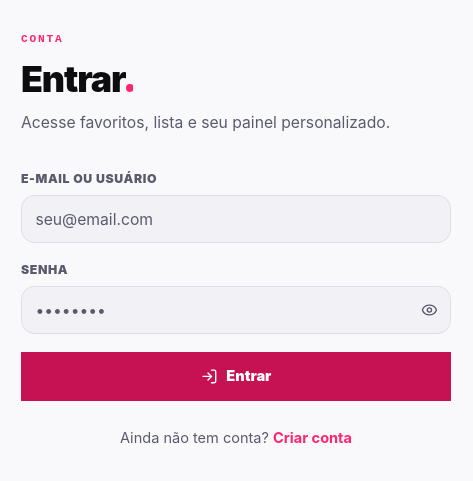
Test: LoginForm › login com erro mostra mensagem e não redireciona
Type "user@x.com" into the field labelled "E-mail ou usuário".
click(236, 219); type("user@x.com")  # box [21,195,451,243]
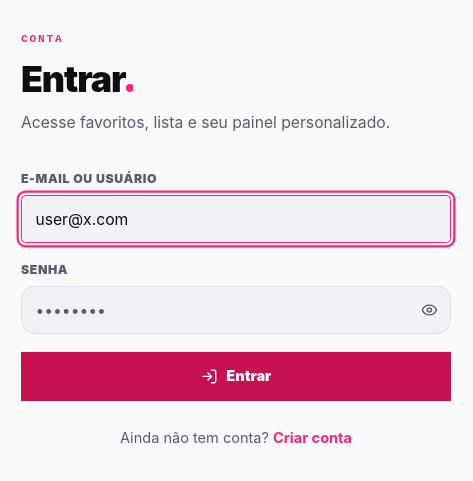
Type "senhaerrada" into the password field labelled "Senha".
click(236, 310); type("senhaerrada")  # box [21,286,451,334]
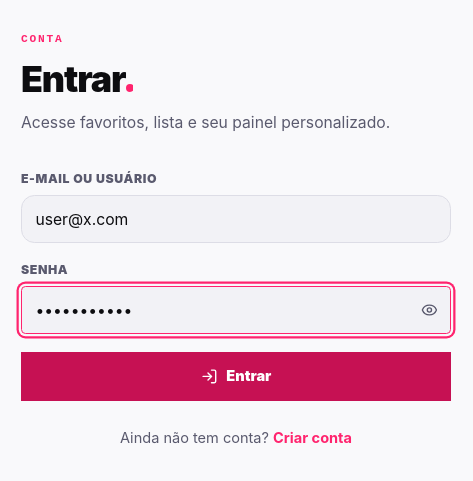
Click the button "Entrar".
click(236, 377)  # box [21,352,451,401]
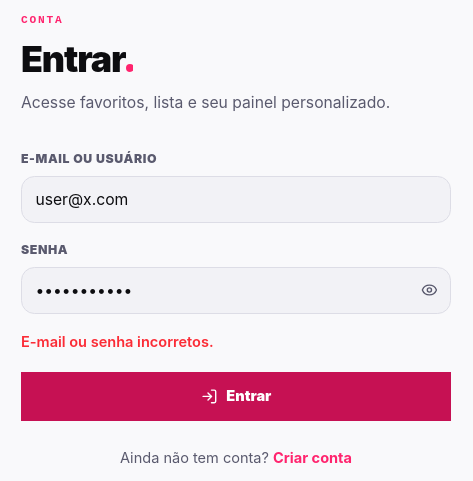
Now the text "E-mail ou senha incorretos." is shown, box [21,333,214,351]
